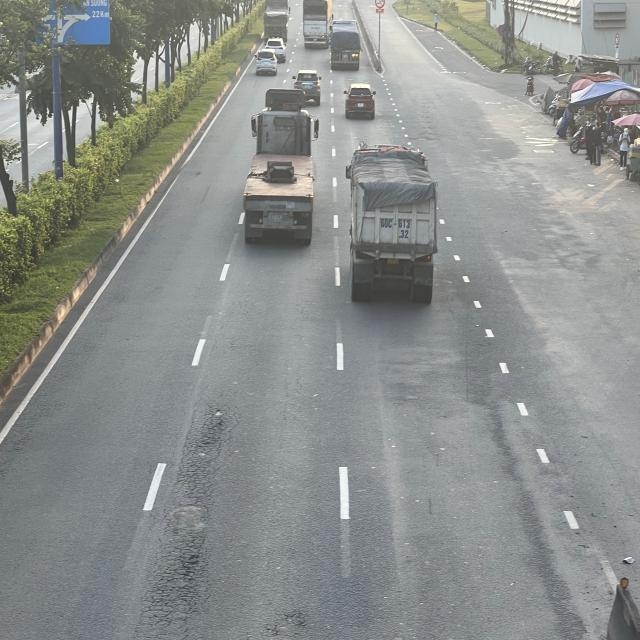car: (344, 81, 377, 118), (293, 69, 322, 106), (256, 50, 280, 77)
container: (345, 144, 439, 304), (242, 88, 320, 249)
truck: (303, 0, 330, 49)
